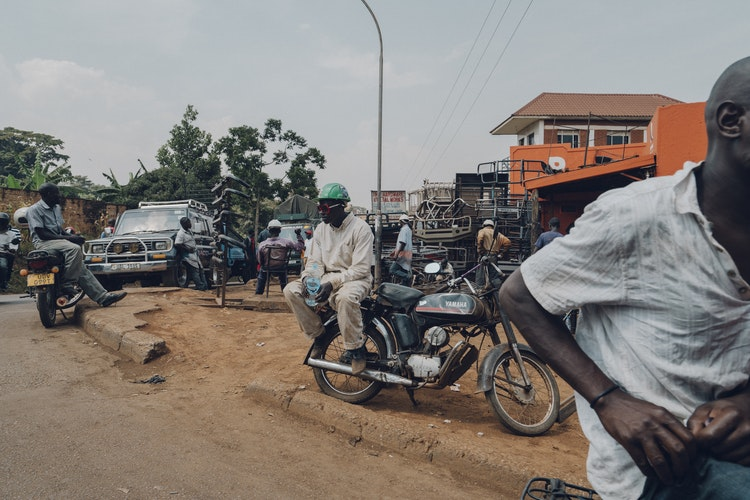helmet: (306, 181, 352, 226)
